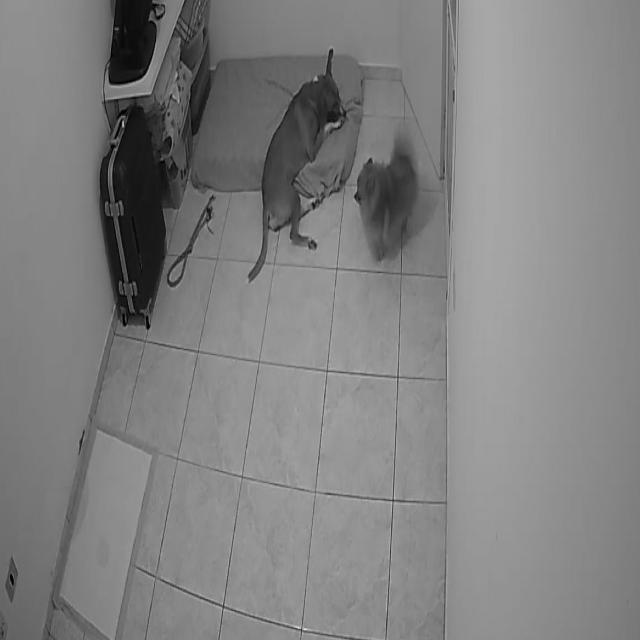laying down: (242, 42, 348, 288)
